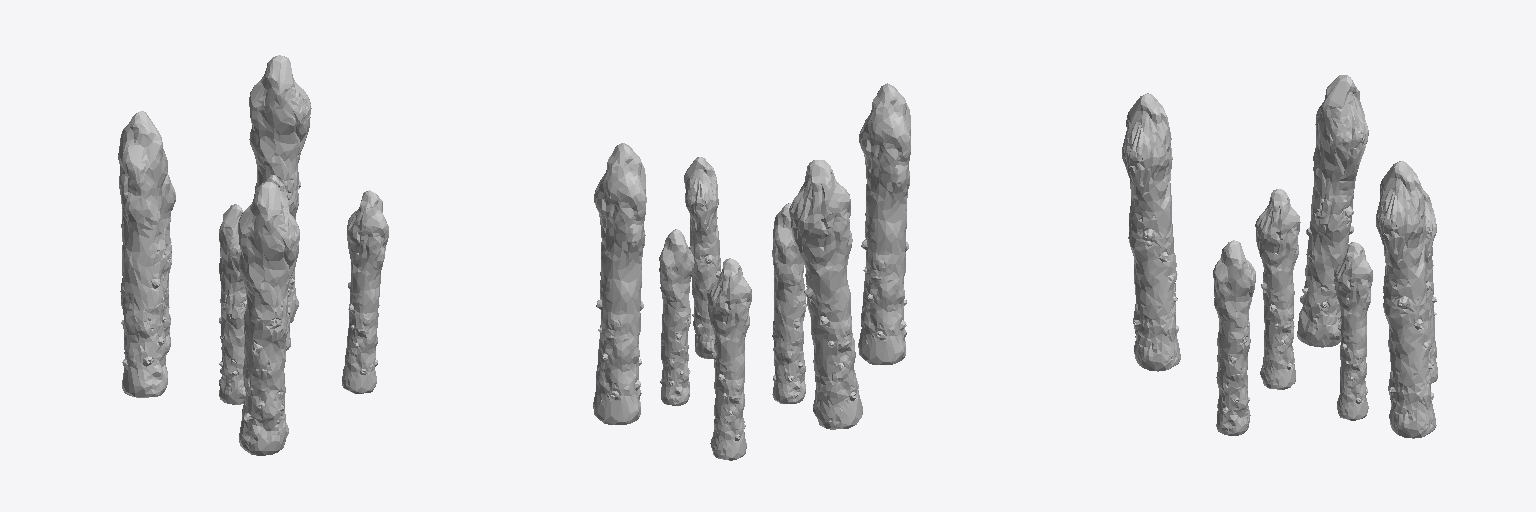
The model's file is BlaloTree.obj.
3 views of the same model, side by side, from view 1: azimuth 30°, elevation 25°; view 2: azimuth 150°, elevation 25°; view 3: azimuth 270°, elevation 25° (orthographic).
Visible parts, largest first — view 1: stree1.001_Cylinder.001; view 2: stree1.001_Cylinder.001; view 3: stree1.001_Cylinder.001.
Boxes of the visible parts, box(x1,y1,x2,y2) form: stree1.001_Cylinder.001: box(118, 55, 388, 455); stree1.001_Cylinder.001: box(593, 83, 910, 460); stree1.001_Cylinder.001: box(1122, 75, 1437, 438).
Size of the model in its own units: 34.98 by 42.27 by 43.13.